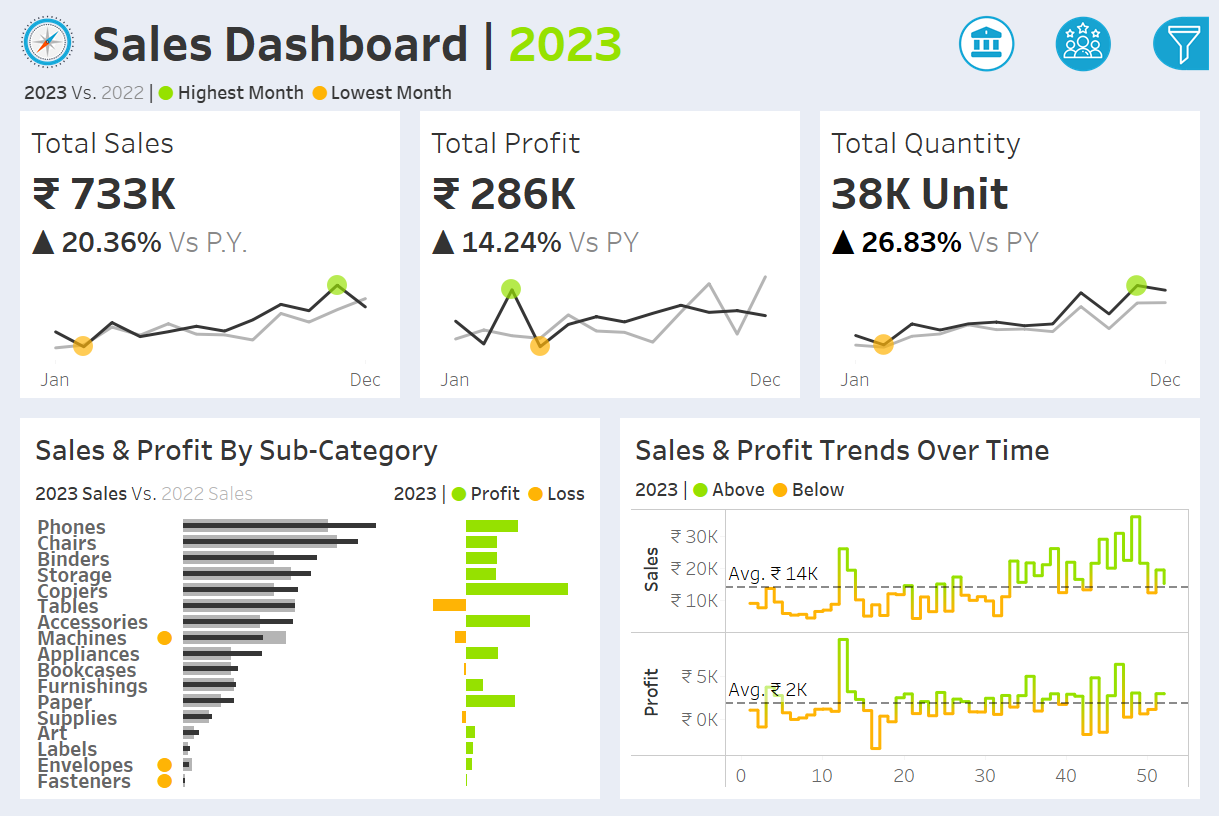

This screenshot's page, from the dashboard's own definition file:
{"tool":"tableau","page":{"name":"Sales Dashboard","canvas":[1200,800],"ordinal":1},"visuals":[{"type":"image","param":"Image/Icon - Logo.png","box":[0,0,74,65]},{"type":"text","box":[74,0,728,65]},{"type":"dashboard-object","box":[927,2,98,65]},{"type":"dashboard-object","box":[1025,2,97,65]},{"type":"blank","box":[947,11,241,64]},{"type":"worksheet","title":"Legend KPIs","mark":"Automatic","box":[0,65,1200,37]},{"type":"text","box":[947,75,241,60]},{"type":"worksheet","title":"Sales","mark":"Automatic","rows":["Calculation_636414939741032448"],"cols":["Order Date"],"box":[0,102,400,297]},{"type":"worksheet","title":"Profit","mark":"Automatic","rows":["Calculation_700591234618294276"],"cols":["Order Date"],"box":[400,102,400,297]},{"type":"worksheet","title":"Quantity","mark":"Automatic","rows":["Calculation_300333817949712384"],"cols":["Order Date"],"box":[800,102,400,297]},{"type":"parameter","param":"[Parameters].[Parameter 1]","box":[947,135,241,60]},{"type":"blank","box":[947,195,241,58]},{"type":"text","box":[947,253,241,39]},{"type":"filter","title":"Sales","param":"[federated.1fkogru1l11lt116tqupk1sp67rr].[none:Category:nk]","box":[947,292,241,70]},{"type":"filter","title":"Sales","param":"[federated.1fkogru1l11lt116tqupk1sp67rr].[none:Sub-Category:nk]","box":[947,362,241,70]},{"type":"text","box":[17,416,566,47]},{"type":"text","box":[617,416,566,47]},{"type":"blank","box":[947,432,241,61]},{"type":"worksheet","title":"Legend Sub category","mark":"Automatic","box":[17,463,343,42]},{"type":"text","box":[360,463,223,42]},{"type":"text","box":[617,463,566,33]},{"type":"text","box":[947,493,241,39]},{"type":"worksheet","title":"Weekly Trends","mark":"Automatic","rows":["Calculation_505247600573788160","Calculation_700591234611875841"],"cols":["Order Date"],"box":[617,496,566,287]},{"type":"worksheet","title":"Sub Category","mark":"Bar","rows":["Sub-Category","Calculation_300333817962188801"],"cols":["CY (copy)_505247600574459905","Calculation_505247600573788160","Calculation_700591234611875841"],"box":[17,505,566,278]},{"type":"filter","title":"Sales","param":"[federated.1fkogru1l11lt116tqupk1sp67rr].[none:Region:nk]","box":[947,532,241,70]},{"type":"filter","title":"Sales","param":"[federated.1fkogru1l11lt116tqupk1sp67rr].[none:State:nk]","box":[947,602,241,70]},{"type":"filter","title":"Sales","param":"[federated.1fkogru1l11lt116tqupk1sp67rr].[none:City:nk]","box":[947,672,241,70]}]}

Visuals, with their boxes in screenshot pixels (x1, y1, x2, y2), scaled from the page's 1200x800 canvas onto the 1219x816 screenshot:
image: [x1=0, y1=0, x2=75, y2=66]
text: [x1=75, y1=0, x2=815, y2=66]
dashboard-object: [x1=942, y1=2, x2=1041, y2=68]
dashboard-object: [x1=1041, y1=2, x2=1140, y2=68]
blank: [x1=962, y1=11, x2=1207, y2=76]
"Legend KPIs" worksheet: [x1=0, y1=66, x2=1218, y2=104]
text: [x1=962, y1=76, x2=1207, y2=138]
"Sales" worksheet: [x1=0, y1=104, x2=406, y2=407]
"Profit" worksheet: [x1=406, y1=104, x2=813, y2=407]
"Quantity" worksheet: [x1=813, y1=104, x2=1218, y2=407]
parameter: [x1=962, y1=138, x2=1207, y2=199]
blank: [x1=962, y1=199, x2=1207, y2=258]
text: [x1=962, y1=258, x2=1207, y2=298]
"Sales" filter: [x1=962, y1=298, x2=1207, y2=369]
"Sales" filter: [x1=962, y1=369, x2=1207, y2=441]
text: [x1=17, y1=424, x2=592, y2=472]
text: [x1=627, y1=424, x2=1202, y2=472]
blank: [x1=962, y1=441, x2=1207, y2=503]
"Legend Sub category" worksheet: [x1=17, y1=472, x2=366, y2=515]
text: [x1=366, y1=472, x2=592, y2=515]
text: [x1=627, y1=472, x2=1202, y2=506]
text: [x1=962, y1=503, x2=1207, y2=543]
"Weekly Trends" worksheet: [x1=627, y1=506, x2=1202, y2=799]
"Sub Category" worksheet (Bar marks): [x1=17, y1=515, x2=592, y2=799]
"Sales" filter: [x1=962, y1=543, x2=1207, y2=614]
"Sales" filter: [x1=962, y1=614, x2=1207, y2=685]
"Sales" filter: [x1=962, y1=685, x2=1207, y2=757]
